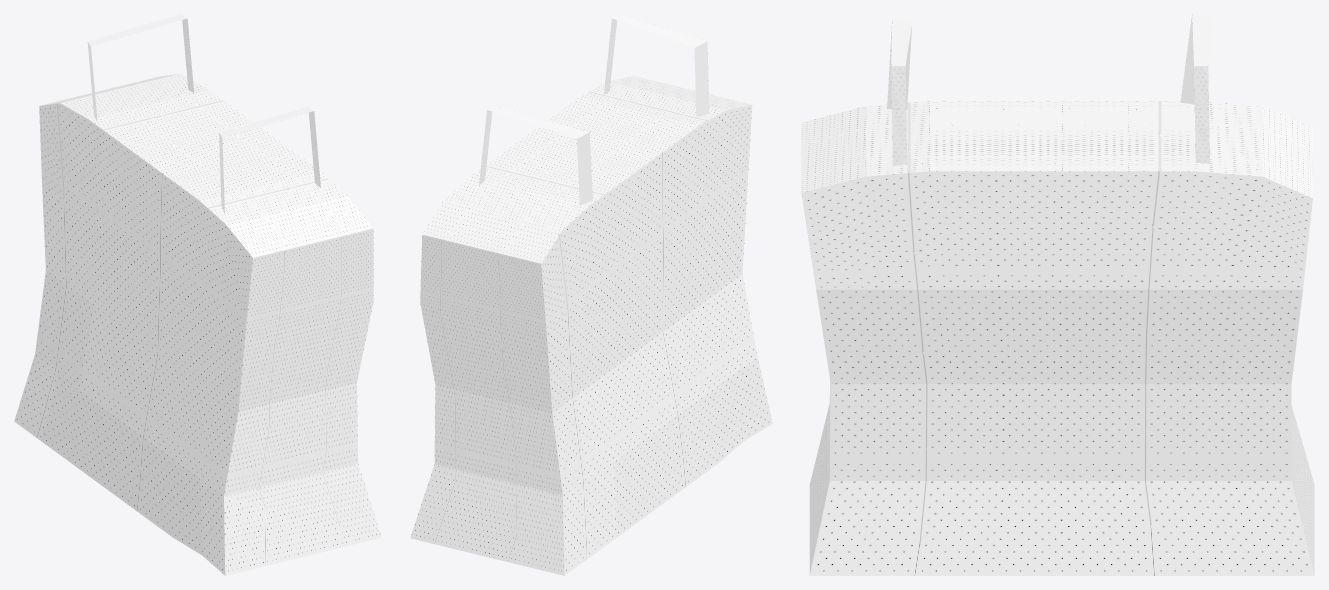
The model's file is tanktop.glb.
3 views of the same model, side by side, from view 1: azimuth 30°, elevation 25°; view 2: azimuth 150°, elevation 25°; view 3: azimuth 270°, elevation 25° (orthographic). The views are drawn at different scales.
Parts seen in each view (by area): view 1: Plane.002; view 2: Plane.002; view 3: Plane.002.
Boxes of the visible parts, left/top/right/bottom form: Plane.002: left=14, top=14, right=381, bottom=575; Plane.002: left=410, top=14, right=772, bottom=575; Plane.002: left=801, top=14, right=1314, bottom=575.
Size of the model in its own units: 0.8815 by 2.21 by 2.09.
Materials: 3 (3 with a texture image).
